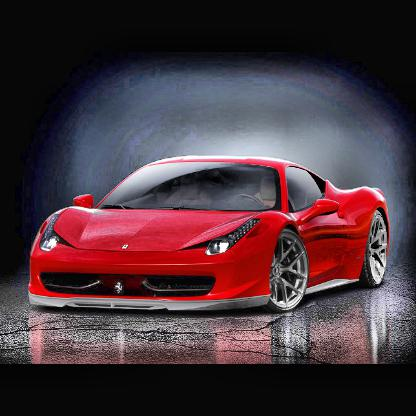Ferrari 458 Italia Coupe 2012: (28, 155, 393, 314)
